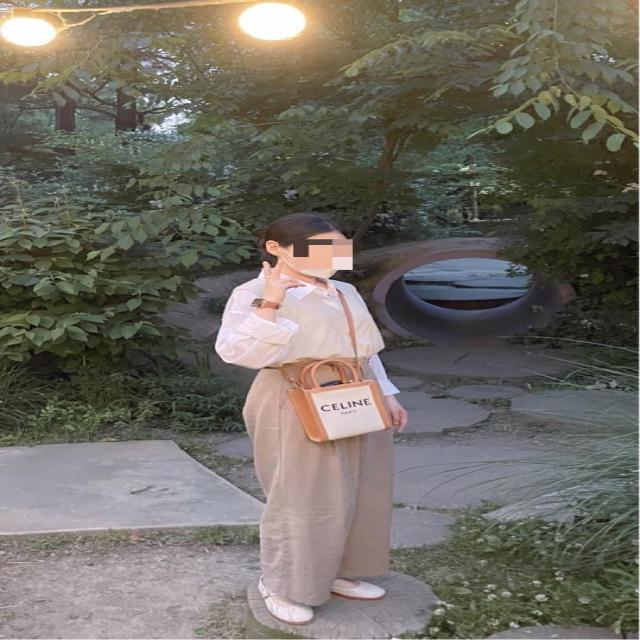shirt: (216, 270, 400, 396)
slacks: (247, 354, 390, 604)
